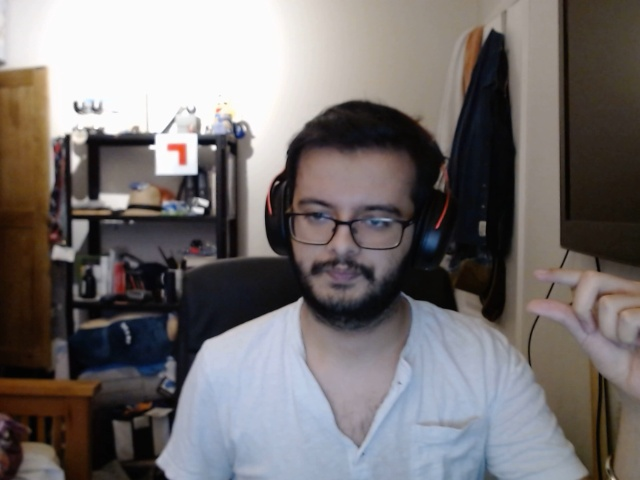Small: (526, 253, 640, 417)
